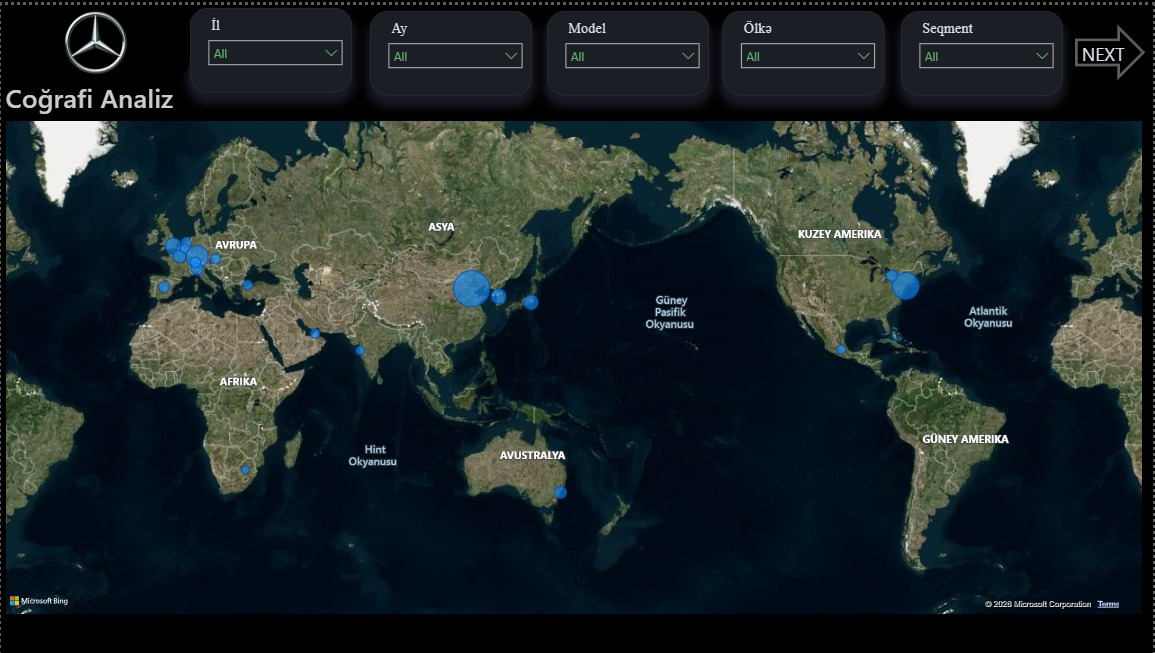

The dashboard page shown, as its layout file describes it:
{"tool":"powerbi","page":{"name":"Coğrafi Analiz","canvas":[1280,720],"ordinal":0},"visuals":[{"type":"azureMap","fields":{"Category":["MB_Ölkə.Ölkə_adı"],"Size":["DAXs.Ümumi gəlir (EUR)"],"Y":["Avg(MB_Ölkə.lat)"],"X":["Avg(MB_Ölkə.lng)"]},"box":[0,124,1272,596],"z":0},{"type":"slicer","fields":{"Values":["Tarix.Date.Variation.Date Hierarchy.Month"]},"box":[410,6,180,94],"z":1000},{"type":"slicer","fields":{"Values":["Tarix.Date.Variation.Date Hierarchy.Year"]},"box":[210,4,180,94],"z":2000},{"type":"slicer","fields":{"Values":["MB_Model.Seqment"]},"box":[1000,6,180,94],"z":3000},{"type":"slicer","fields":{"Values":["MB_Model.Model_adı"]},"box":[606,6,180,94],"z":4000},{"type":"slicer","fields":{"Values":["MB_Ölkə.Ölkə_adı"]},"box":[802,6,180,94],"z":5000},{"type":"image","box":[0,0,210,84],"z":6000},{"type":"actionButton","box":[1197.7,20.7,74.8,65.2],"z":7000},{"type":"textbox","title":"Coğrafi Analiz","box":[0,84,210,94],"z":8000}]}

Visuals, with their boxes in screenshot pixels (x1, y1, x2, y2), scaled from the page's 1280x720 canvas onto the 1155x653 screenshot:
azureMap - MB_Ölkə.Ölkə_adı x DAXs.Ümumi gəlir (EUR): crop(0, 112, 1148, 652)
slicer - Tarix.Date.Variation.Date Hierarchy.Month: crop(370, 5, 532, 91)
slicer - Tarix.Date.Variation.Date Hierarchy.Year: crop(189, 4, 352, 89)
slicer - MB_Model.Seqment: crop(902, 5, 1065, 91)
slicer - MB_Model.Model_adı: crop(547, 5, 709, 91)
slicer - MB_Ölkə.Ölkə_adı: crop(724, 5, 886, 91)
image: crop(0, 0, 189, 76)
actionButton: crop(1081, 19, 1148, 78)
"Coğrafi Analiz" textbox: crop(0, 76, 189, 161)
